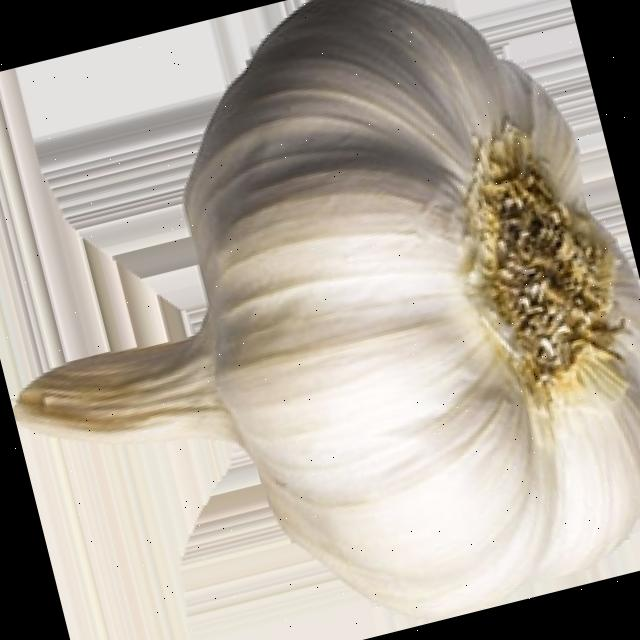garlic: (13, 0, 640, 619)
